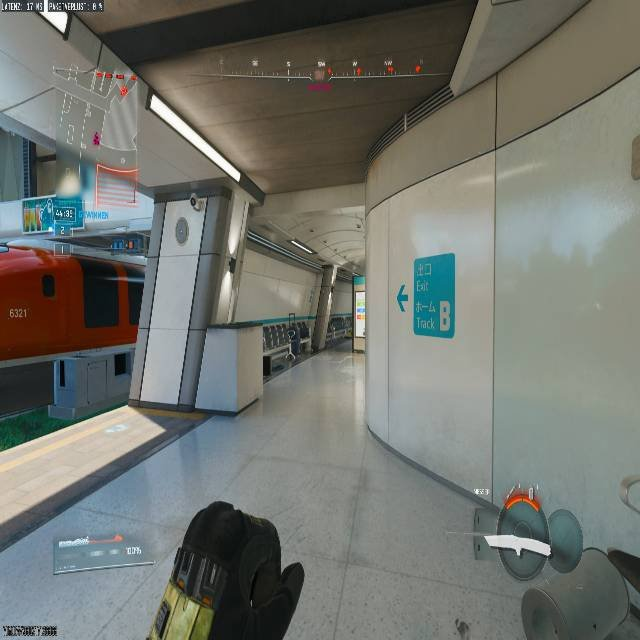player: (282, 318, 308, 367)
